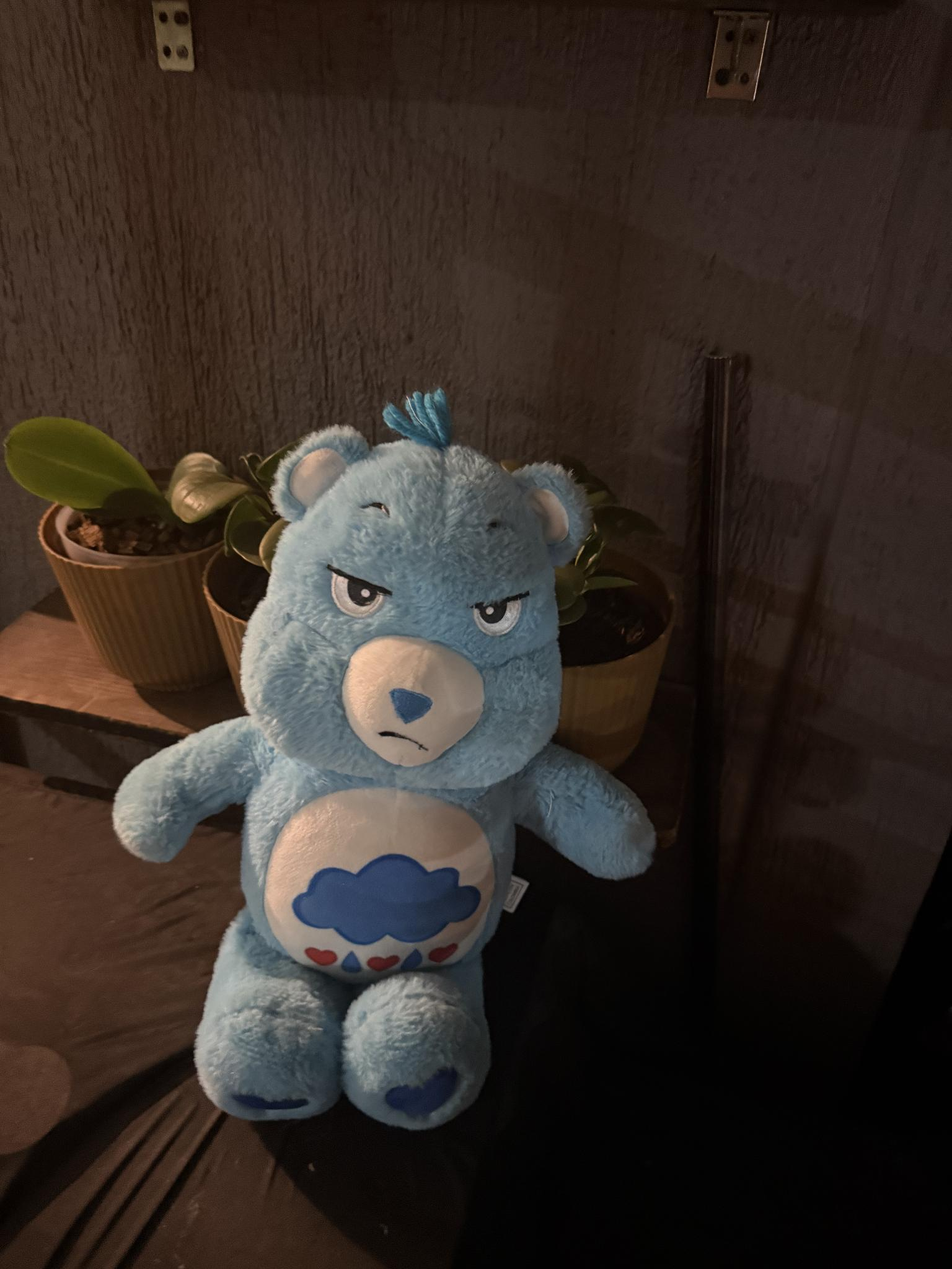peluche_Juan Jose: (104, 409, 667, 1140)
